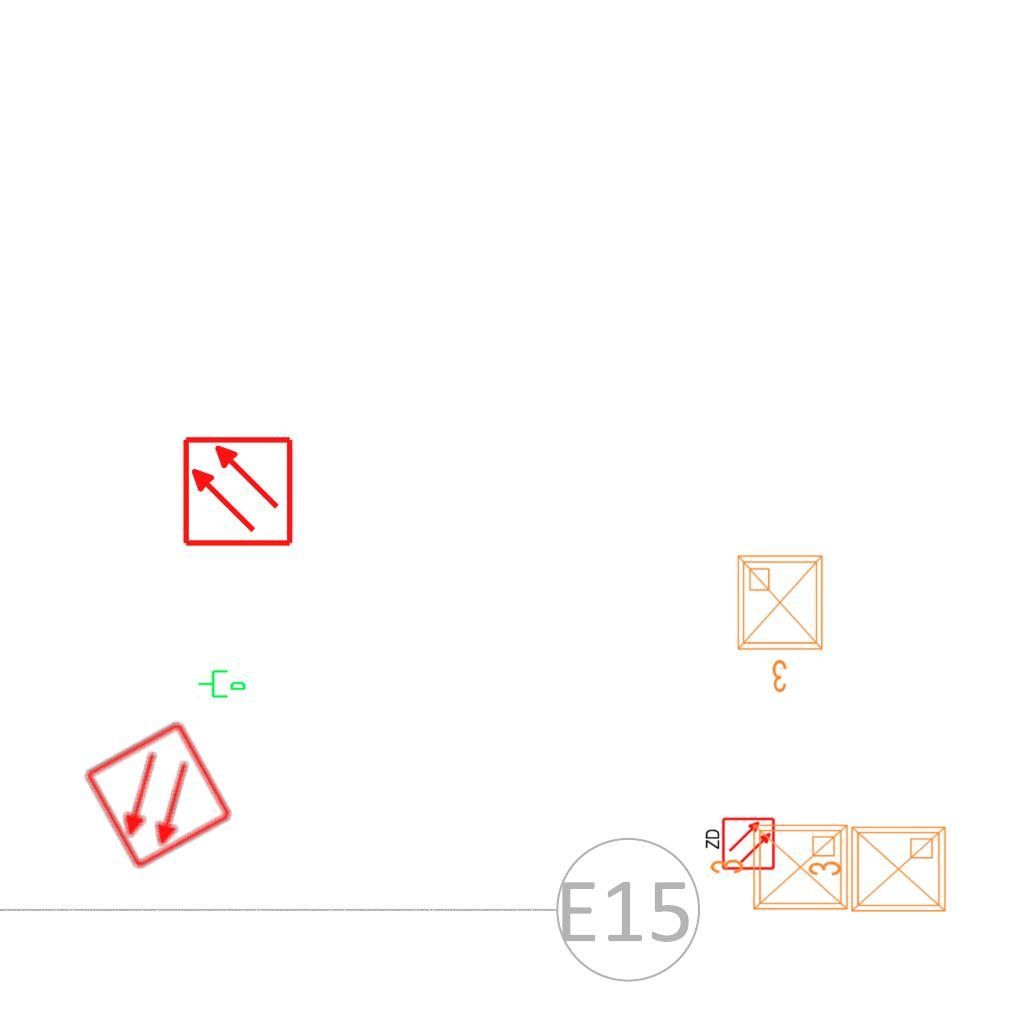Datenanschluss_einfach: (197, 666, 247, 700)
Einbaudownlights_LED_Konferenzraeume: (803, 819, 953, 923), (730, 548, 834, 698), (705, 817, 855, 921)
RMO_Rauchmelder_optischer: (81, 718, 236, 873), (181, 435, 294, 548)
ZD_Melder_in_Zwischendecke_mit_Revisionsoeffnung_mind_40_x_40_cm: (702, 816, 776, 873)
